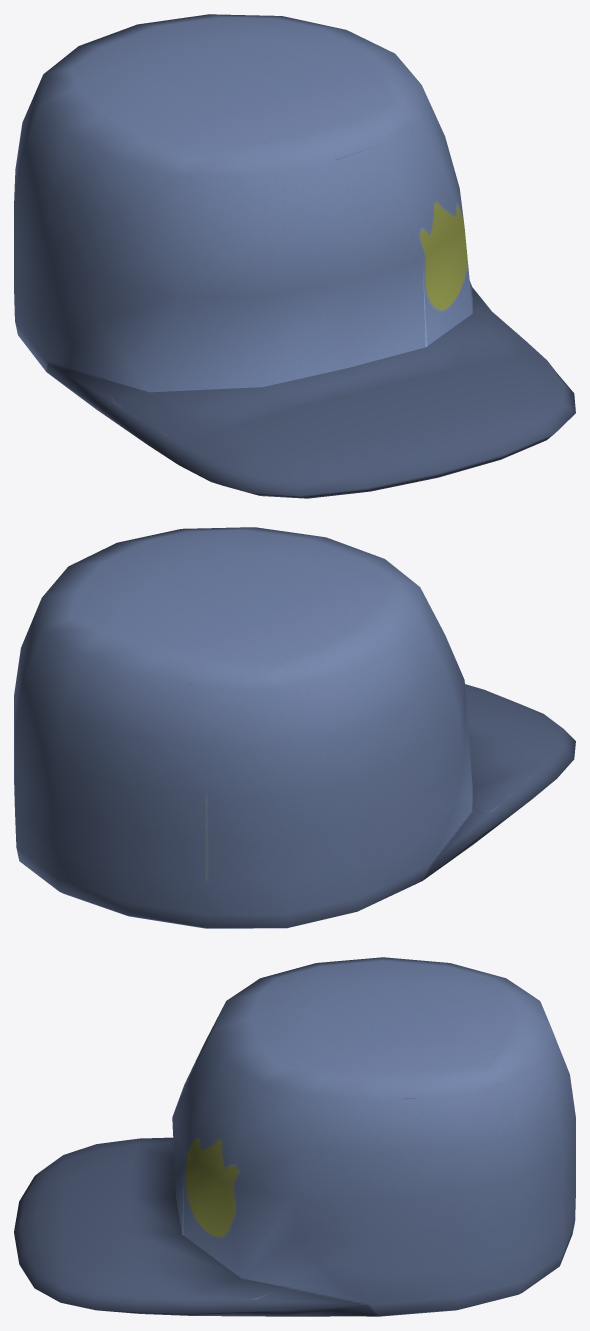
File: hat.fbx
3 renders of one model, top to bottom at view 1: azimuth 30°, elevation 25°; view 2: azimuth 150°, elevation 25°; view 3: azimuth 270°, elevation 25°, orthographic. The views are drawn at different scales.
Visible parts, largest first — view 1: polySurface11; view 2: polySurface11; view 3: polySurface11.
Part boxes in pixels (x1,y1,x2,y2): polySurface11: [14, 14, 575, 498]; polySurface11: [14, 527, 575, 928]; polySurface11: [14, 957, 575, 1316].
Bounding box in the file's own units: 0.4043 × 0.2576 × 0.5676.
Materials: 1 (1 with a texture image).
